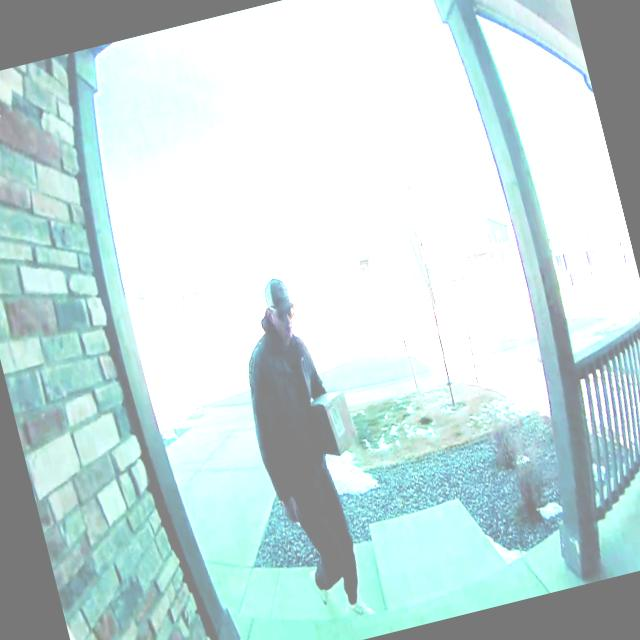Box: (312, 386, 360, 457)
